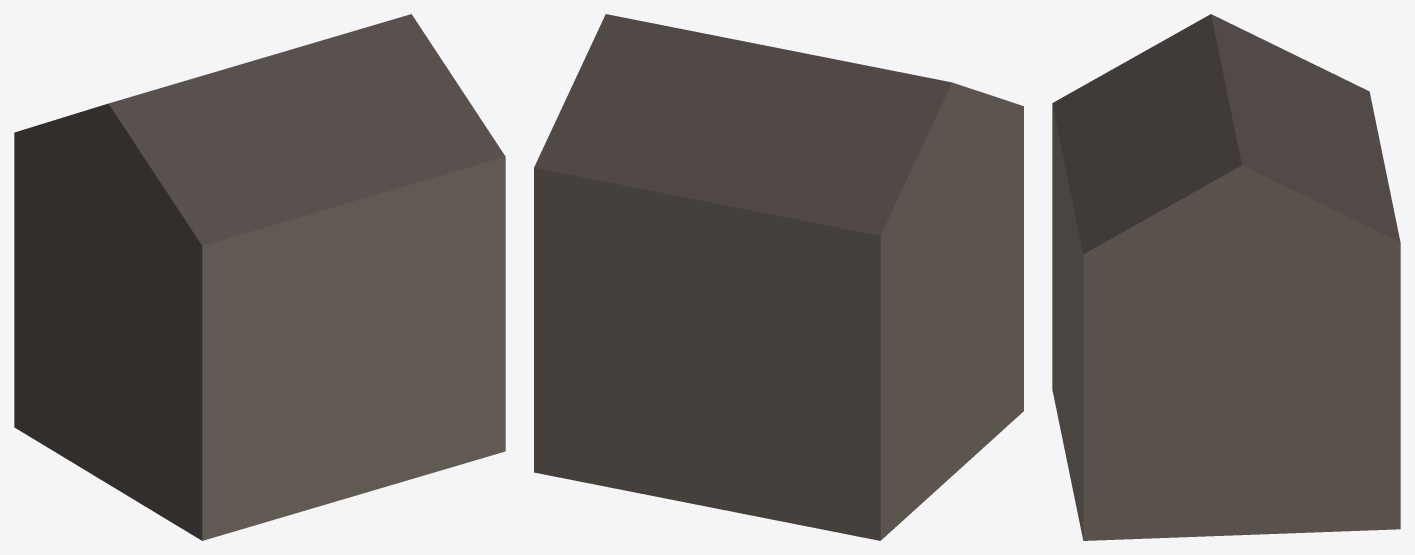
3 renders of one model, left to right at view 1: azimuth 30°, elevation 25°; view 2: azimuth 150°, elevation 25°; view 3: azimuth 270°, elevation 25°, orthographic. The views are drawn at different scales.
Parts seen in each view (by area): view 1: HP-w1424106453; view 2: HP-w1424106453; view 3: HP-w1424106453.
Part boxes in pixels (x1,y1,x2,y2): HP-w1424106453: (14, 14, 505, 540); HP-w1424106453: (534, 14, 1023, 540); HP-w1424106453: (1052, 14, 1400, 540).
Size of the model in its own units: 7.32 by 7.74 by 6.61.
